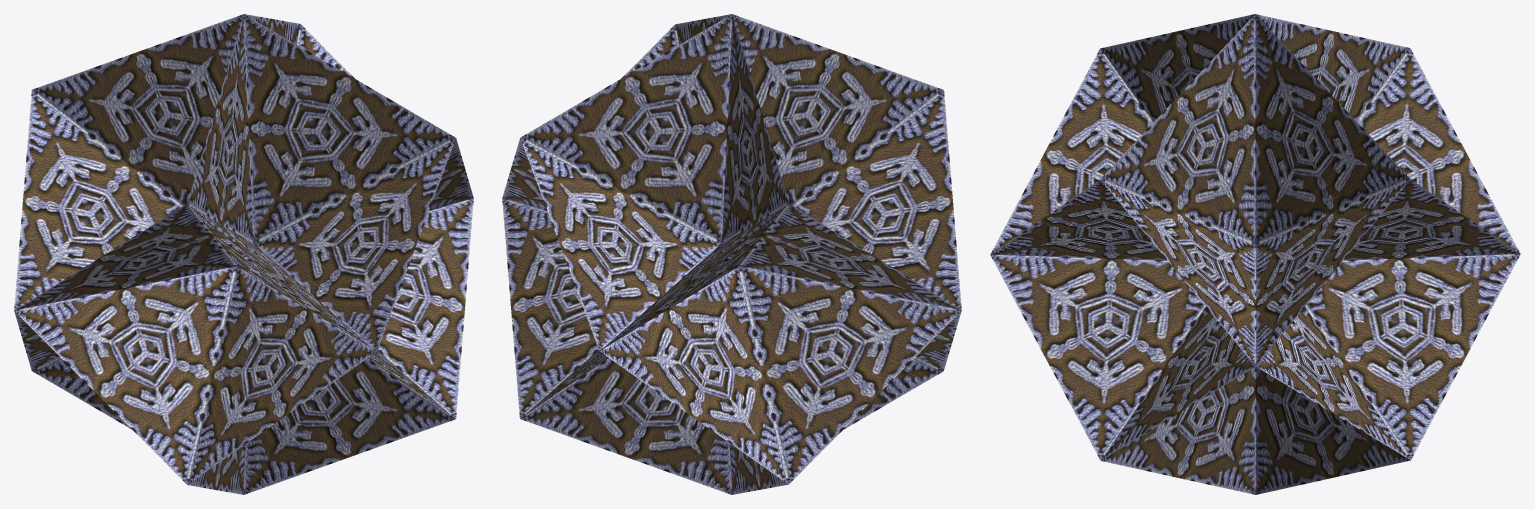
File: Mobius48b_3.obj
3 views of the same model, side by side, from view 1: azimuth 30°, elevation 25°; view 2: azimuth 150°, elevation 25°; view 3: azimuth 270°, elevation 25° (orthographic).
Size of the model in its own units: 2.16 by 2.16 by 2.16.
1 material, 1 textured.
